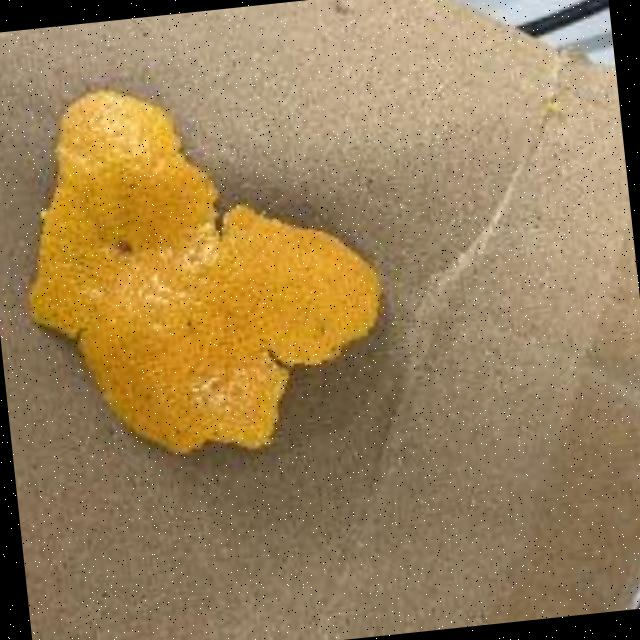orange-peel: (4, 59, 398, 474)
